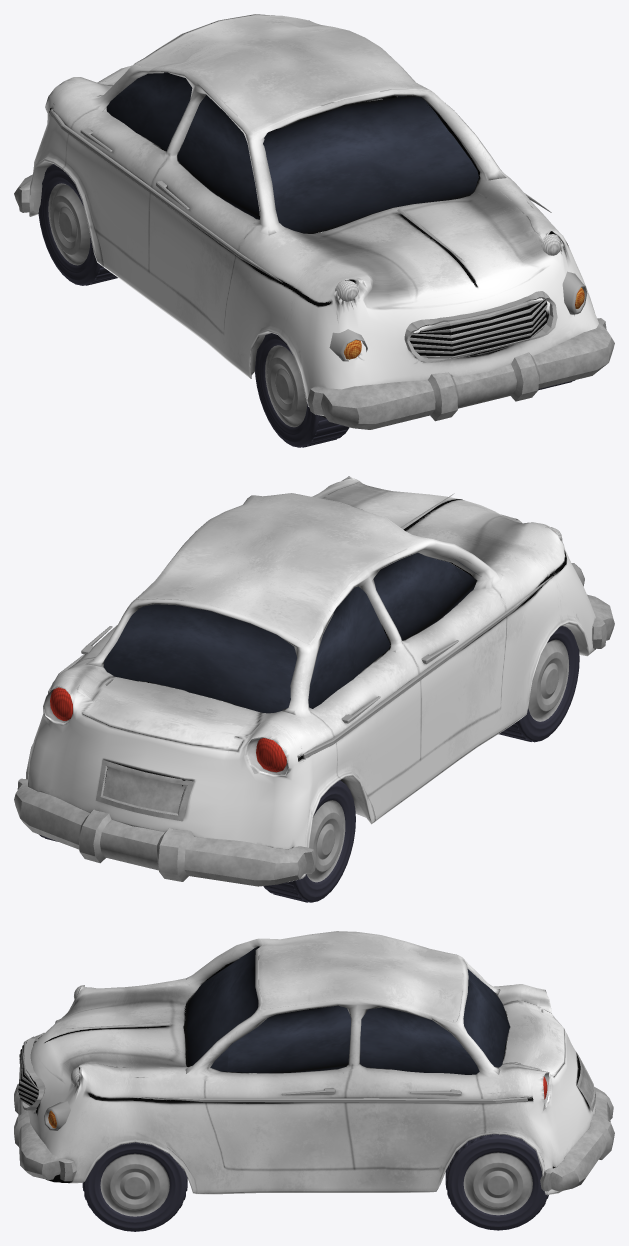
Rendered from car2.fbx.
3 views of the same model, one above another, from view 1: azimuth 30°, elevation 25°; view 2: azimuth 150°, elevation 25°; view 3: azimuth 270°, elevation 25° (orthographic). The views are drawn at different scales.
Visible parts, largest first — view 1: Cube; view 2: Cube; view 3: Cube.
Part boxes in pixels (x1,y1,x2,y2): Cube: [14, 14, 614, 447]; Cube: [14, 476, 614, 902]; Cube: [14, 931, 614, 1231].
Size of the model in its own units: 8.8 by 7.49 by 18.73.
8 materials, 6 textured.
